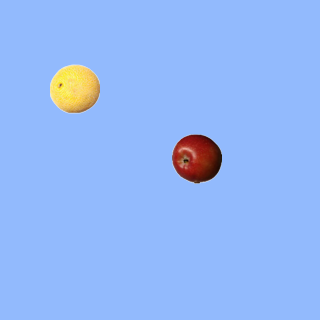Apple Braeburn: (171, 133, 221, 183)
Cantaloupe 1: (49, 63, 99, 113)
